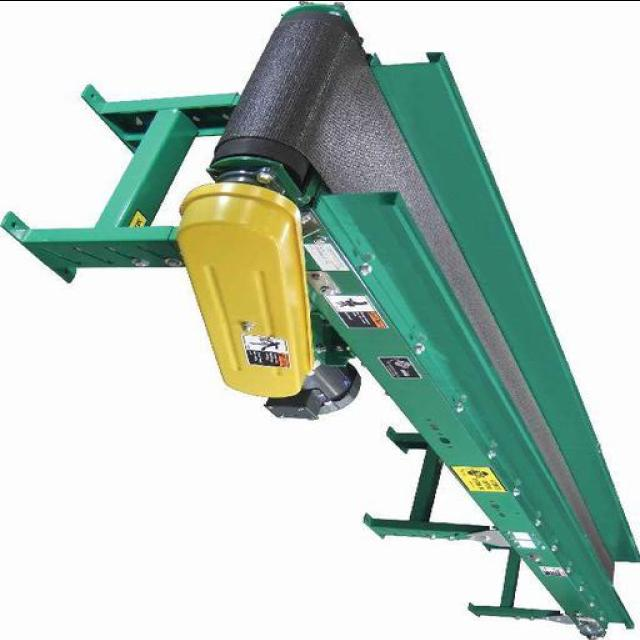conveyor: (214, 7, 620, 593)
